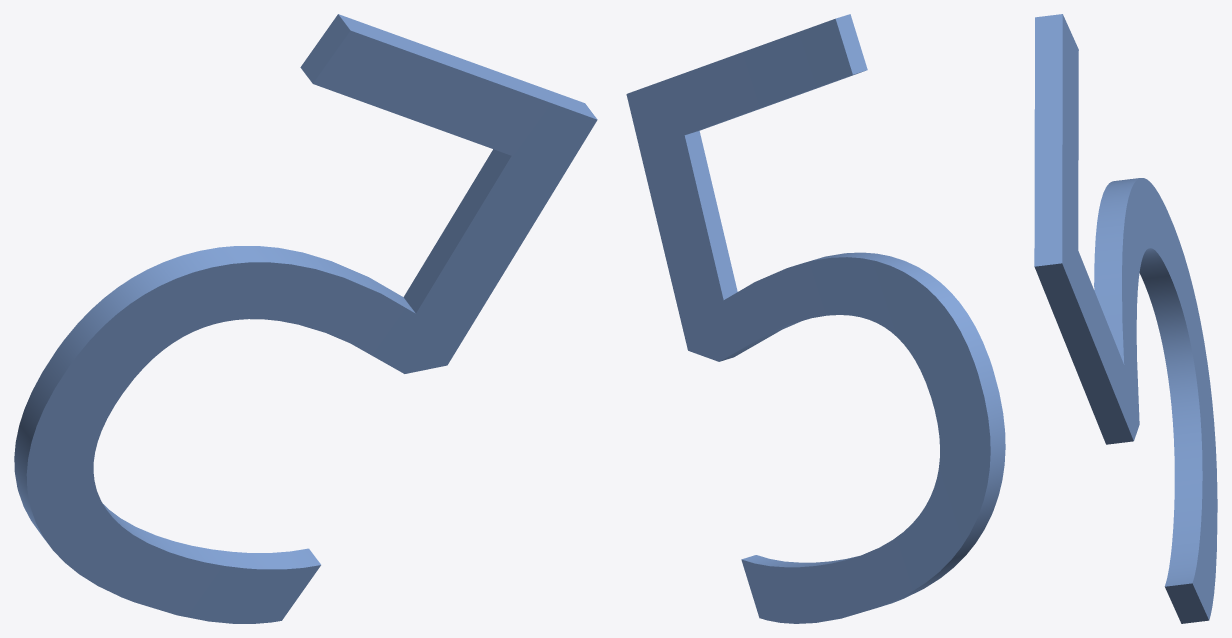
The model's file is New_Number_5.gltf.
3 views of the same model, side by side, from view 1: azimuth 30°, elevation 25°; view 2: azimuth 150°, elevation 25°; view 3: azimuth 270°, elevation 25° (orthographic). The views are drawn at different scales.
Visible parts, largest first — view 1: Part 455; view 2: Part 455; view 3: Part 455.
Part boxes in pixels (left/top/right/bottom): Part 455: left=14, top=14, right=597, bottom=623; Part 455: left=626, top=14, right=1005, bottom=623; Part 455: left=1034, top=14, right=1217, bottom=623.
Bounding box in the file's own units: 0.0048 × 0.006 × 0.00164.
